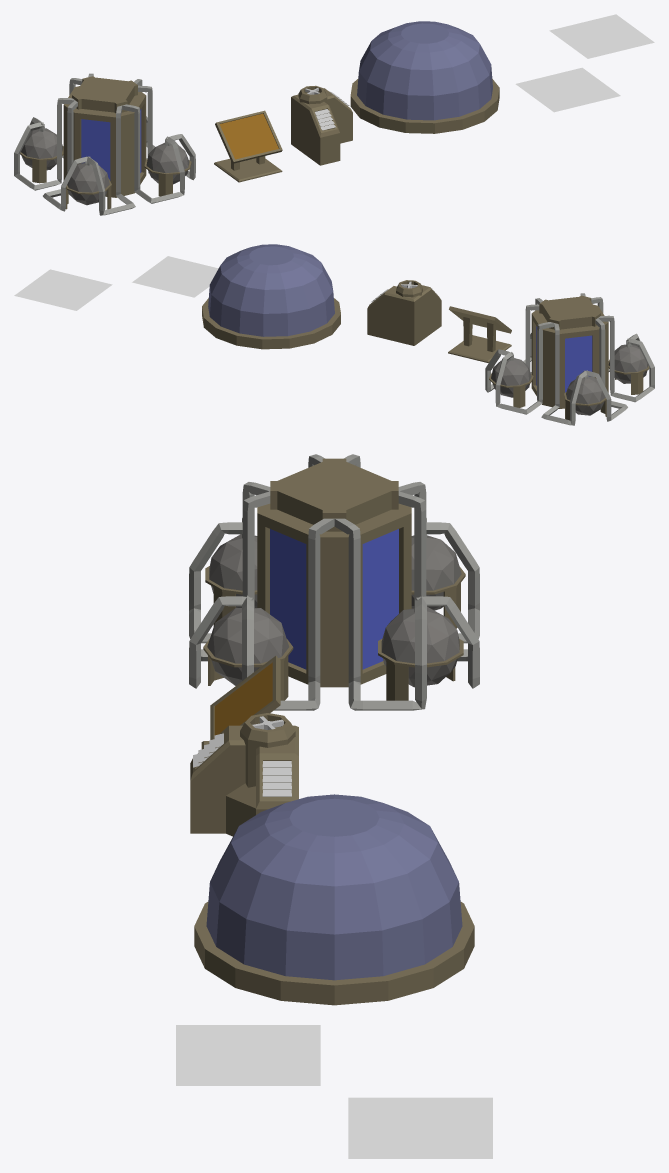
Rendered from buildings.fbx.
The picture shows the model from 3 angles, top to bottom: view 1: azimuth 30°, elevation 25°; view 2: azimuth 150°, elevation 25°; view 3: azimuth 270°, elevation 25°; orthographic projection. The views are drawn at different scales.
Visible parts, largest first — view 1: Icosphere.001, Plane.006, Plane, Cylinder.001, Plane.001; view 2: Icosphere.001, Plane.006, Plane, Cylinder.001, Plane.001; view 3: Icosphere.001, Plane.006, Plane, Cylinder.001, Plane.001.
Part boxes in pixels (box(x1,y1,x2,y2)): Icosphere.001: box(14, 73, 195, 215); Plane.006: box(350, 21, 499, 133); Plane: box(515, 14, 654, 112); Cylinder.001: box(291, 85, 352, 165); Plane.001: box(214, 110, 282, 182); Icosphere.001: box(485, 293, 654, 425); Plane.006: box(202, 244, 340, 349); Plane: box(14, 256, 218, 310); Cylinder.001: box(367, 280, 441, 345); Plane.001: box(448, 306, 511, 362); Icosphere.001: box(189, 454, 479, 710); Plane.006: box(194, 794, 474, 1005); Plane: box(176, 1025, 492, 1158); Cylinder.001: box(190, 713, 298, 836); Plane.001: box(201, 656, 280, 749).
Bounding box in the file's own units: 1553 × 216 × 368.
